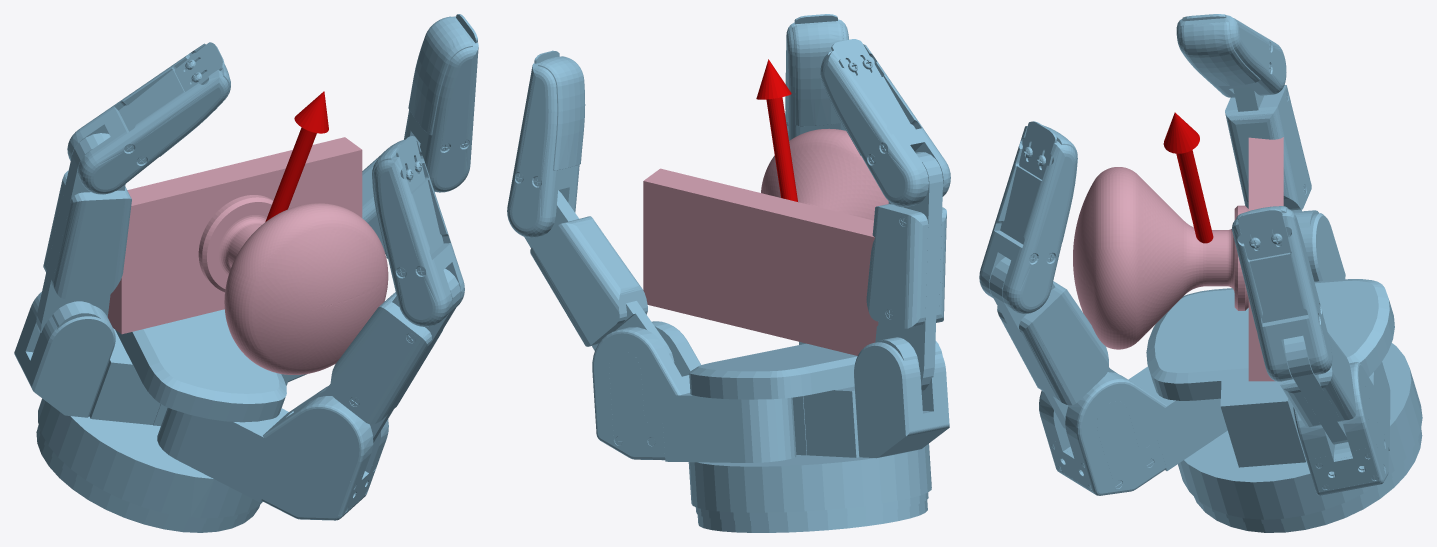
3 renders of one model, left to right at view 1: azimuth 30°, elevation 25°; view 2: azimuth 150°, elevation 25°; view 3: azimuth 270°, elevation 25°, orthographic. The views are drawn at different scales.
Visible parts, largest first — view 1: world, door_knob.stl; view 2: world, door_knob.stl; view 3: world, door_knob.stl.
Boxes of the visible parts, x1,y1,x2,y2 form: world: (14,14,478,532); door_knob.stl: (107,137,388,374); world: (507,14,950,532); door_knob.stl: (643,128,888,355); world: (979,14,1422,532); door_knob.stl: (1073,137,1283,381).
Size of the model in its own units: 0.1809 by 0.1913 by 0.1576.
